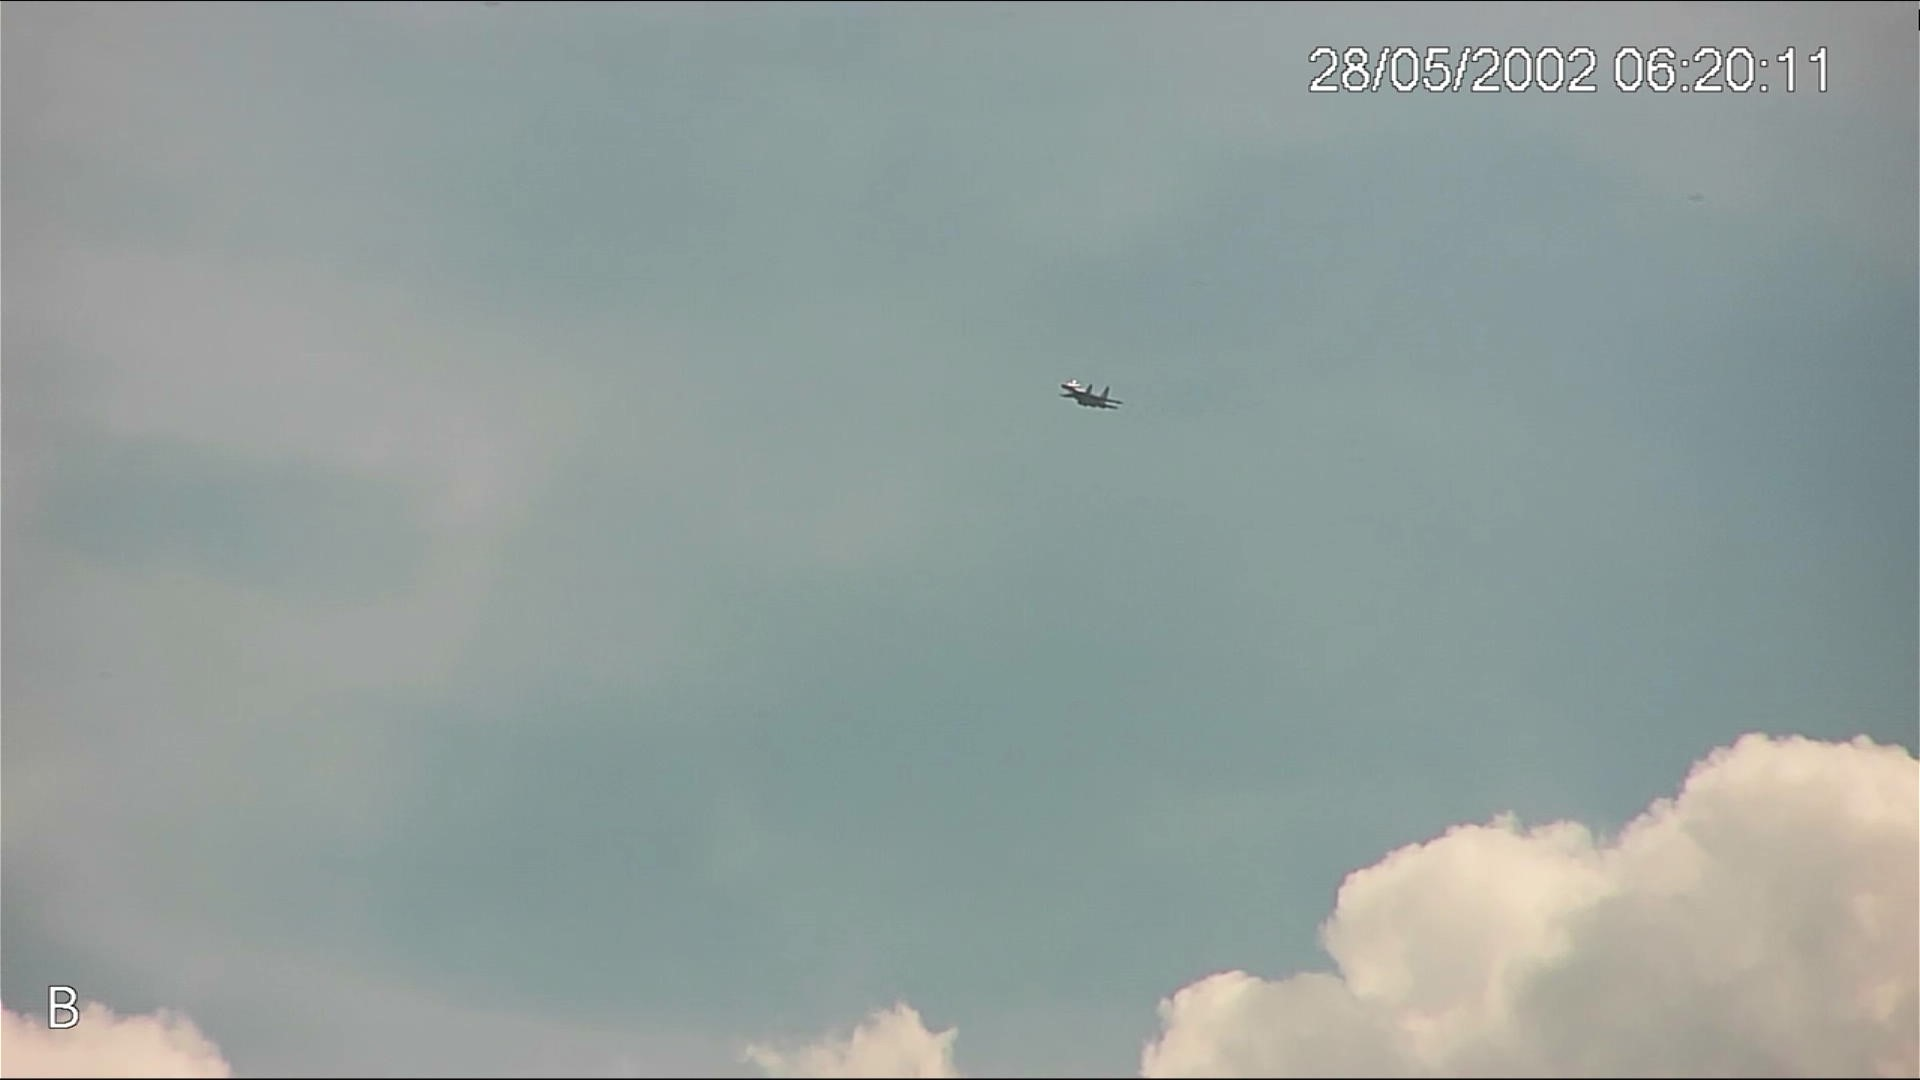SU_30: (1058, 372, 1126, 417)
